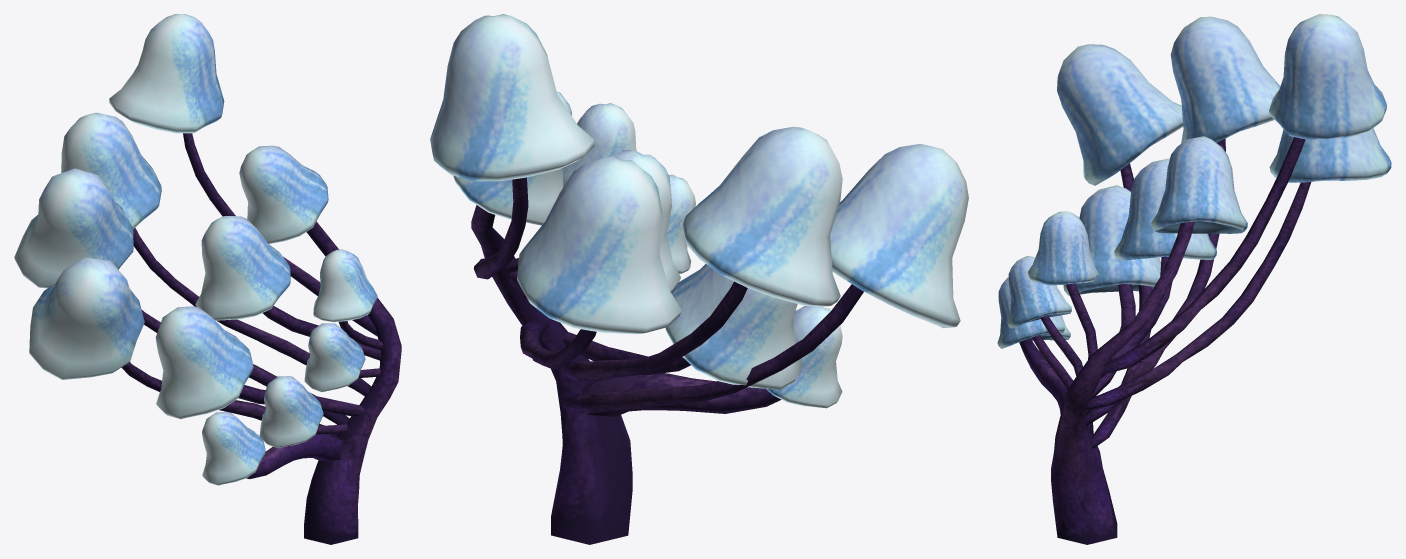
File: Cartoon Seaweed_13-1-2.fbx
3 views of the same model, side by side, from view 1: azimuth 30°, elevation 25°; view 2: azimuth 150°, elevation 25°; view 3: azimuth 270°, elevation 25° (orthographic). The views are drawn at different scales.
Parts seen in each view (by area): view 1: Cartoon Seaweed_13.1.2; view 2: Cartoon Seaweed_13.1.2; view 3: Cartoon Seaweed_13.1.2.
Part boxes in pixels (x1,y1,x2,y2): Cartoon Seaweed_13.1.2: (14,14,401,544); Cartoon Seaweed_13.1.2: (430,14,968,544); Cartoon Seaweed_13.1.2: (997,14,1391,544).
Size of the model in its own units: 31.65 by 38.68 by 28.11.
1 material, 1 textured.
